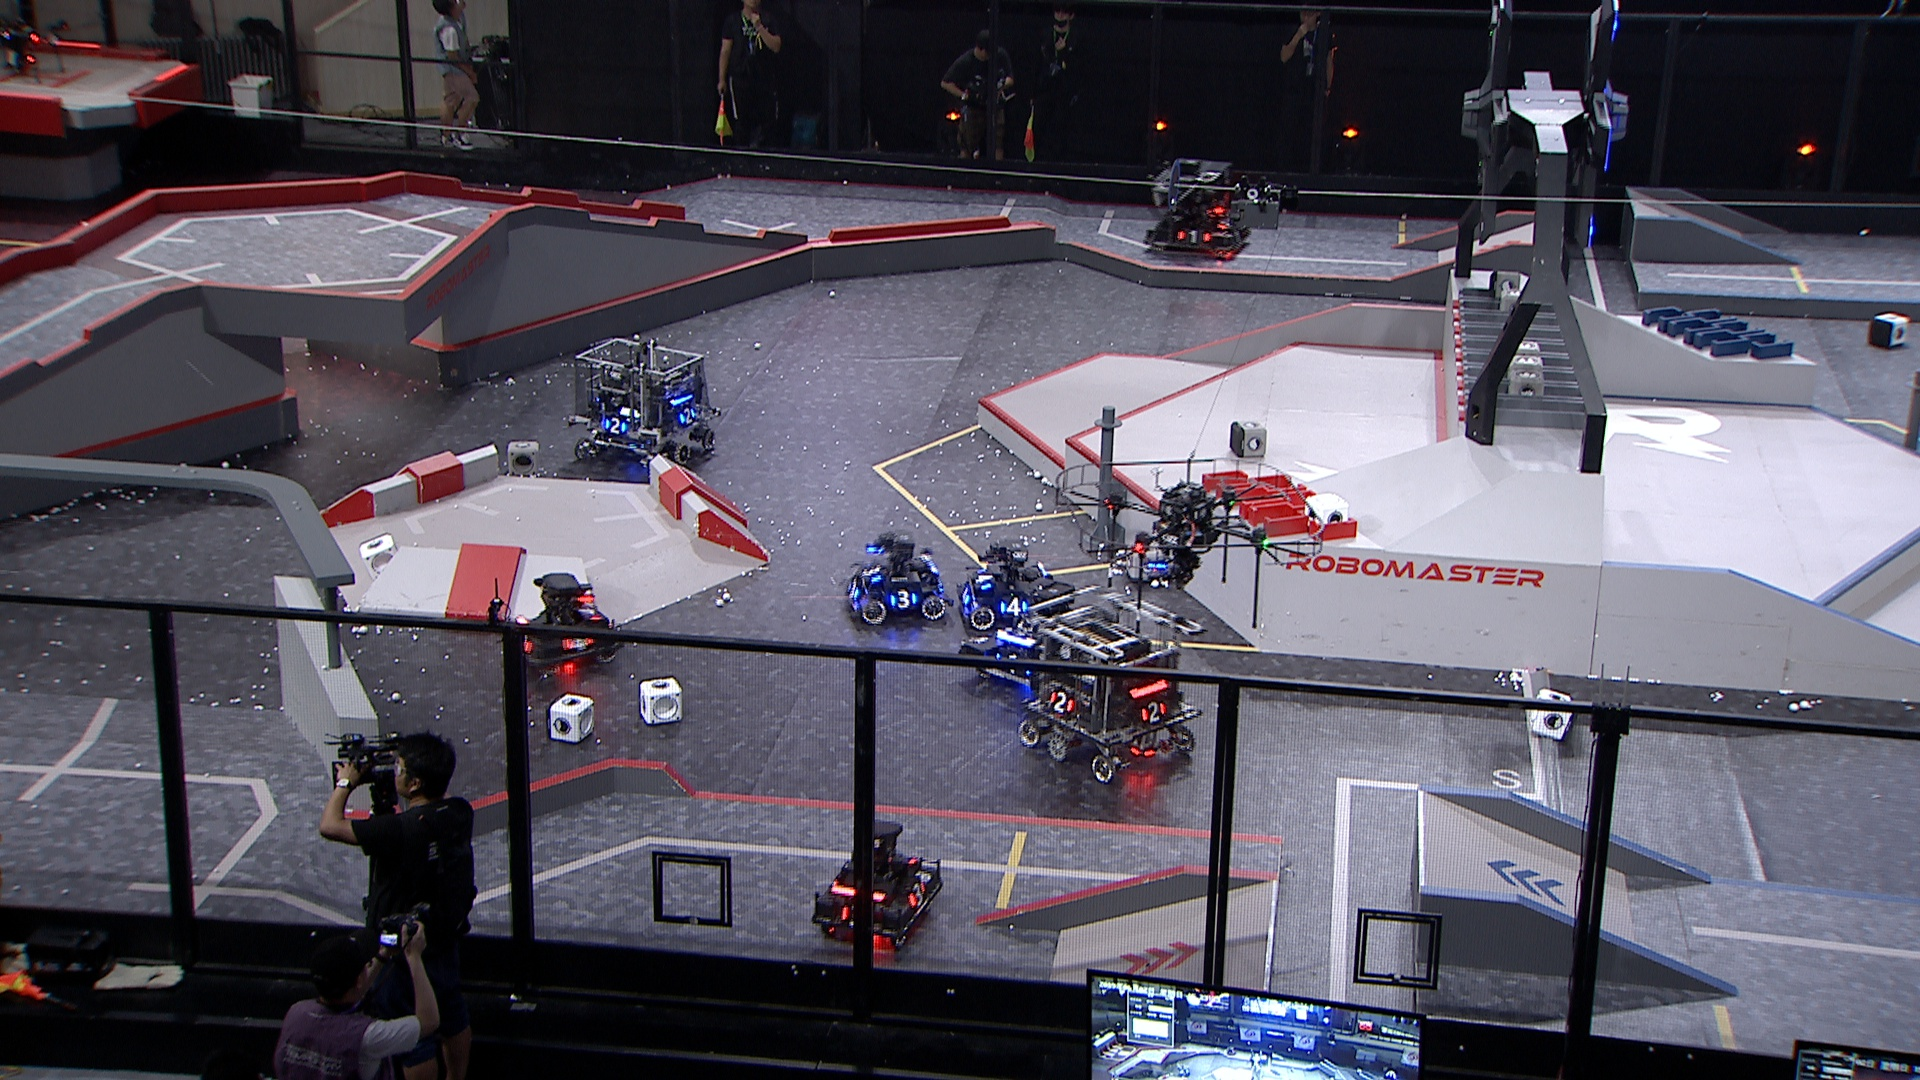armor: (993, 651, 1034, 680), (1044, 688, 1076, 717), (998, 593, 1031, 618), (887, 589, 920, 611), (1139, 702, 1168, 725), (1178, 225, 1212, 244), (560, 636, 593, 654), (574, 603, 603, 622), (906, 880, 926, 909), (603, 415, 628, 438), (975, 566, 993, 593), (858, 564, 884, 584), (678, 404, 698, 427), (953, 584, 972, 607), (843, 576, 860, 600), (1229, 225, 1247, 244), (1215, 219, 1237, 232)
car: (1010, 583, 1203, 787), (570, 335, 724, 471), (808, 812, 949, 949), (965, 579, 1097, 705), (496, 572, 626, 678), (1139, 157, 1254, 262), (839, 529, 953, 632), (949, 535, 1067, 626)
